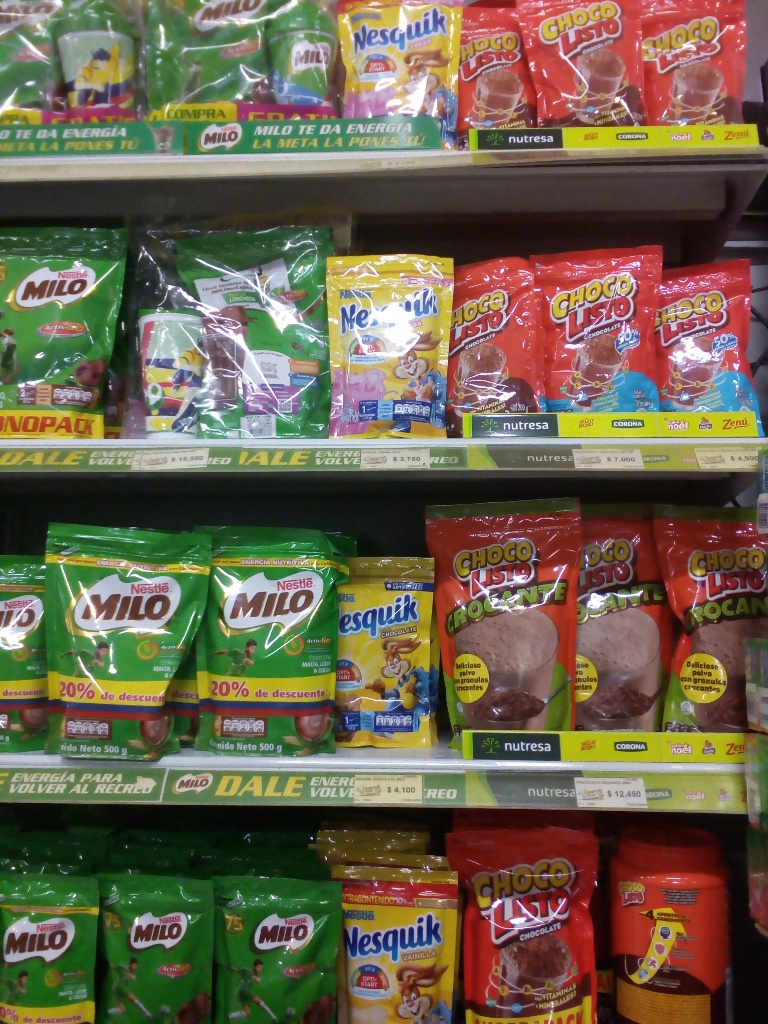COL0170102DYP50000: (432, 491, 578, 734)
COL0170103DYP44000: (450, 816, 602, 1024)
COL0170103TRR00100: (608, 820, 739, 1024)
COL0170104DYP20000: (534, 247, 663, 410)
COL0170203DYP25000: (92, 866, 214, 1022)
COL0170203DYP50000: (146, 1, 271, 119)
COL0170305DYP20000: (320, 251, 451, 436)
COL0170306DYP20000: (327, 559, 452, 762)
